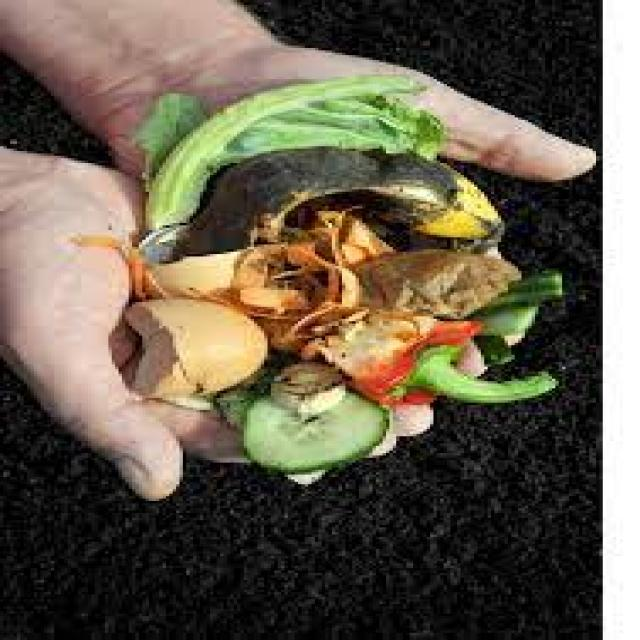Organik: (78, 68, 614, 483)
